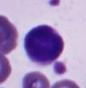L: (25, 24, 66, 66)
